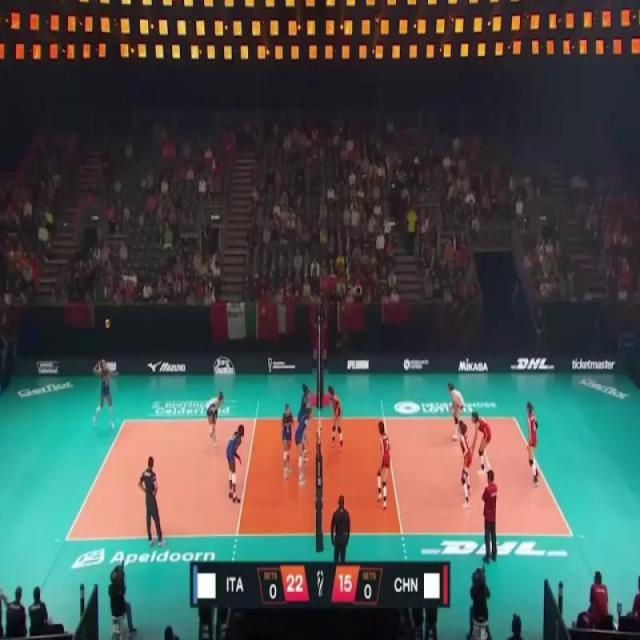volleyball: (104, 318, 111, 330)
